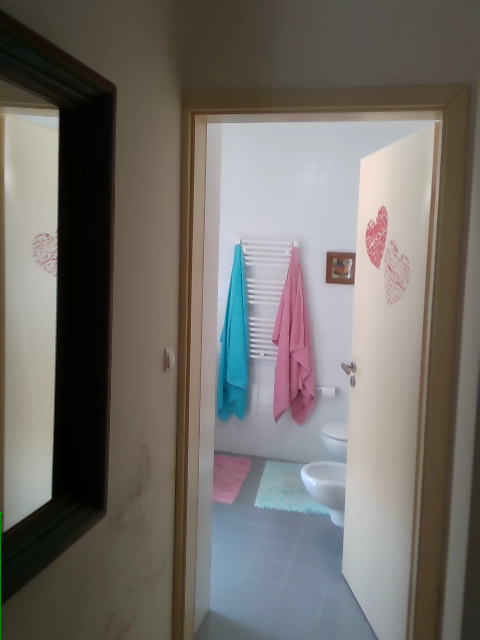open: (168, 81, 472, 639)
